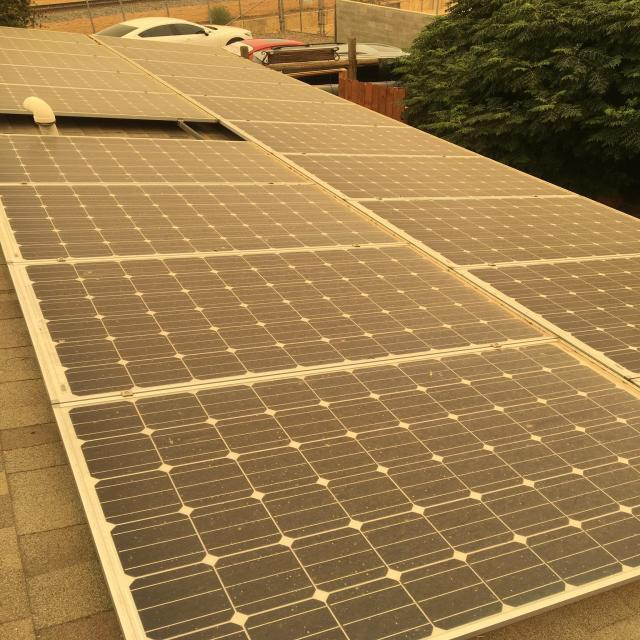dust-solar-panel: (0, 25, 640, 640)
